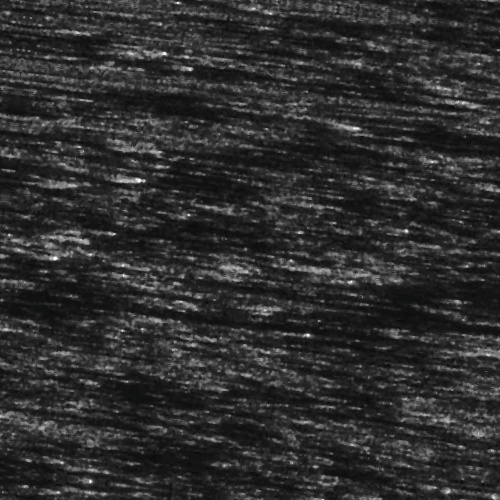object: (216, 280, 361, 321), (0, 249, 122, 270), (395, 311, 500, 328), (376, 69, 449, 80), (0, 276, 91, 283), (447, 76, 500, 87), (89, 157, 152, 166), (181, 384, 244, 393), (23, 198, 54, 211), (88, 187, 141, 194), (452, 397, 500, 404), (294, 111, 347, 114)
shadow: (56, 280, 288, 321), (68, 311, 500, 328), (221, 1, 500, 18), (31, 69, 413, 80), (218, 76, 484, 87), (0, 249, 55, 270), (328, 397, 493, 404), (0, 157, 120, 166), (92, 384, 212, 393), (384, 106, 500, 115), (0, 187, 114, 194), (0, 198, 39, 211), (0, 276, 45, 283), (265, 111, 320, 114)
